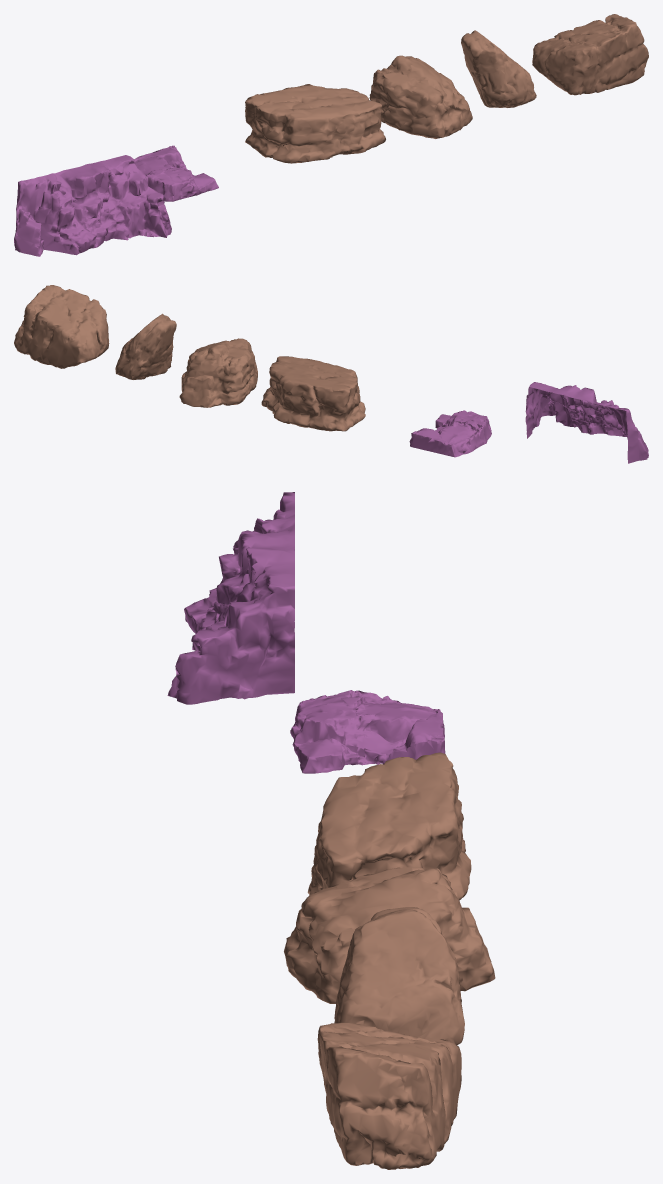
The model's file is AAA.fbx.
The picture shows the model from 3 angles, top to bottom: view 1: azimuth 30°, elevation 25°; view 2: azimuth 150°, elevation 25°; view 3: azimuth 270°, elevation 25°; orthographic projection. The views are drawn at different scales.
Visible parts, largest first — view 1: Rock05LOD0, Rock01LOD0, Rock06LOD0, Rock02LOD0, Rock03LOD0, Rock04LOD0; view 2: Rock01LOD0, Rock06LOD0, Rock05LOD0, Rock02LOD0, Rock03LOD0, Rock04LOD0; view 3: Rock06LOD0, Rock05LOD0, Rock01LOD0, Rock03LOD0, Rock02LOD0, Rock04LOD0.
Boxes of the visible parts, box(x1,y1,x2,y2) form: Rock05LOD0: box(14, 155, 171, 256); Rock01LOD0: box(245, 84, 385, 163); Rock06LOD0: box(532, 14, 648, 95); Rock02LOD0: box(369, 55, 472, 138); Rock03LOD0: box(461, 30, 536, 107); Rock04LOD0: box(134, 145, 218, 201); Rock01LOD0: box(261, 356, 365, 431); Rock06LOD0: box(14, 285, 109, 368); Rock05LOD0: box(525, 382, 648, 463); Rock02LOD0: box(179, 338, 257, 407); Rock03LOD0: box(115, 313, 176, 379); Rock04LOD0: box(409, 410, 491, 457); Rock06LOD0: box(317, 1022, 461, 1169); Rock05LOD0: box(167, 492, 294, 704); Rock01LOD0: box(307, 752, 471, 900); Rock03LOD0: box(334, 907, 464, 1044); Rock02LOD0: box(284, 867, 495, 1003); Rock04LOD0: box(290, 690, 445, 773).
Size of what is drawn, in the model's own units: 2426 by 251 by 581.
